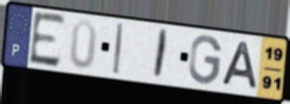0: (68, 18, 99, 71)
A: (219, 40, 259, 92)
E: (28, 10, 68, 70)
G: (187, 34, 224, 86)
I: (151, 28, 171, 81), (112, 22, 125, 77)
